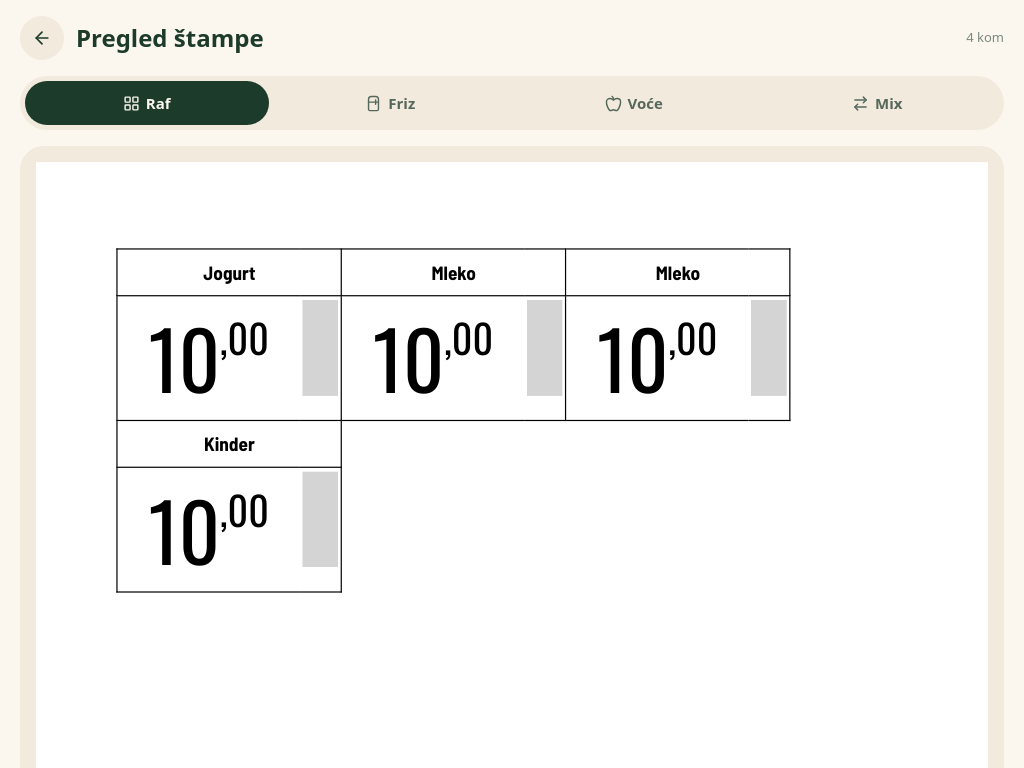
Test case: PrintPreview in Mix › offers Raf, Friz, Voće and Mix, and remembers Mix on this device
The width and height of the screenshot is (1024, 768).
Click the button "Mix". click: (877,103)
box: [756, 81, 999, 125]
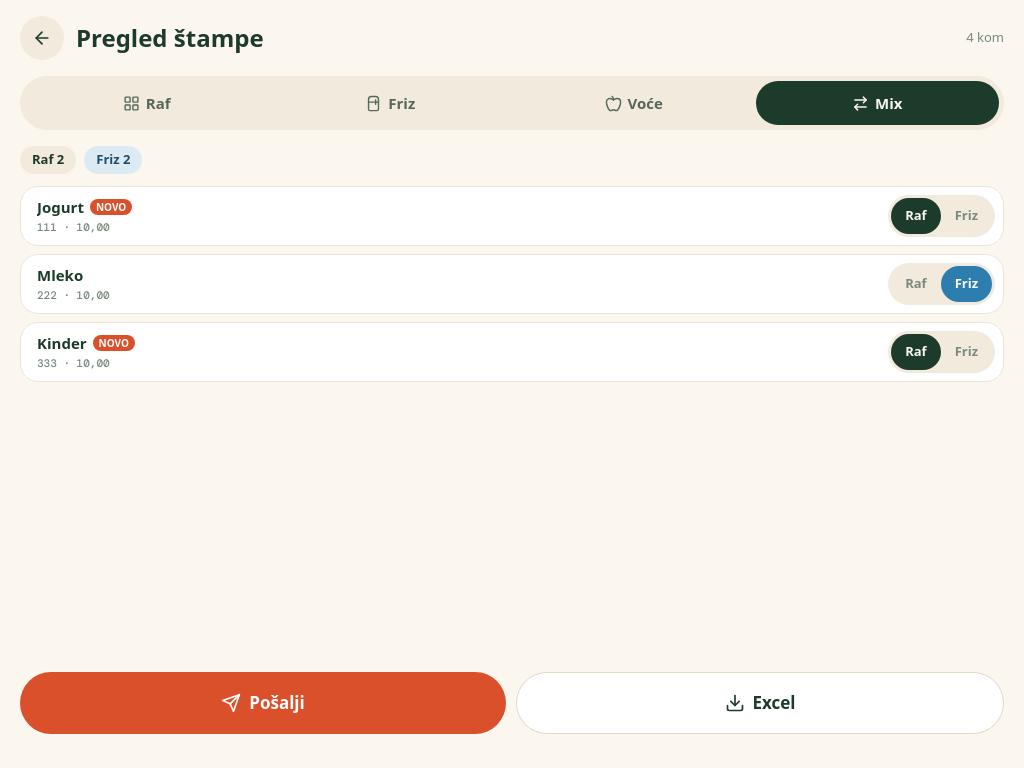
Expected: the button "Raf" is shown, [25, 81, 268, 125]
Expected: the text "Friz 2" is shown, [84, 146, 142, 174]
